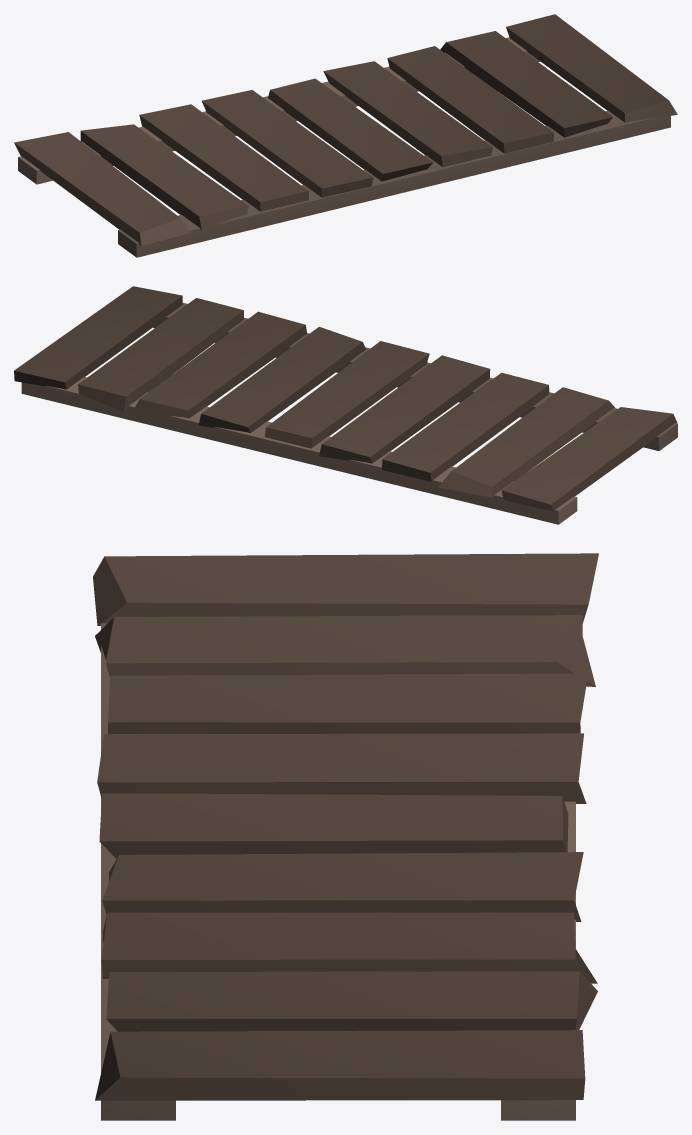
The model's file is Bridge.fbx.
3 renders of one model, top to bottom at view 1: azimuth 30°, elevation 25°; view 2: azimuth 150°, elevation 25°; view 3: azimuth 270°, elevation 25°, orthographic. The views are drawn at different scales.
Parts seen in each view (by area): view 1: Cube, Cube.002; view 2: Cube, Cube.002; view 3: Cube, Cube.002.
Part boxes in pixels (x1,y1,x2,y2): Cube: [14, 14, 677, 245]; Cube.002: [18, 37, 670, 257]; Cube: [14, 286, 677, 511]; Cube.002: [21, 303, 677, 524]; Cube: [93, 553, 598, 1100]; Cube.002: [101, 623, 575, 1120].
Bounding box in the file's own units: 624 × 26.27 × 254.
1 material, 1 textured.
